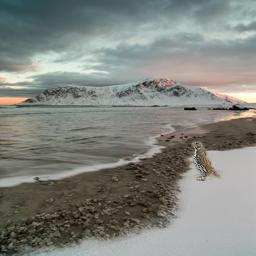Sparrow: (191, 141, 224, 181)
